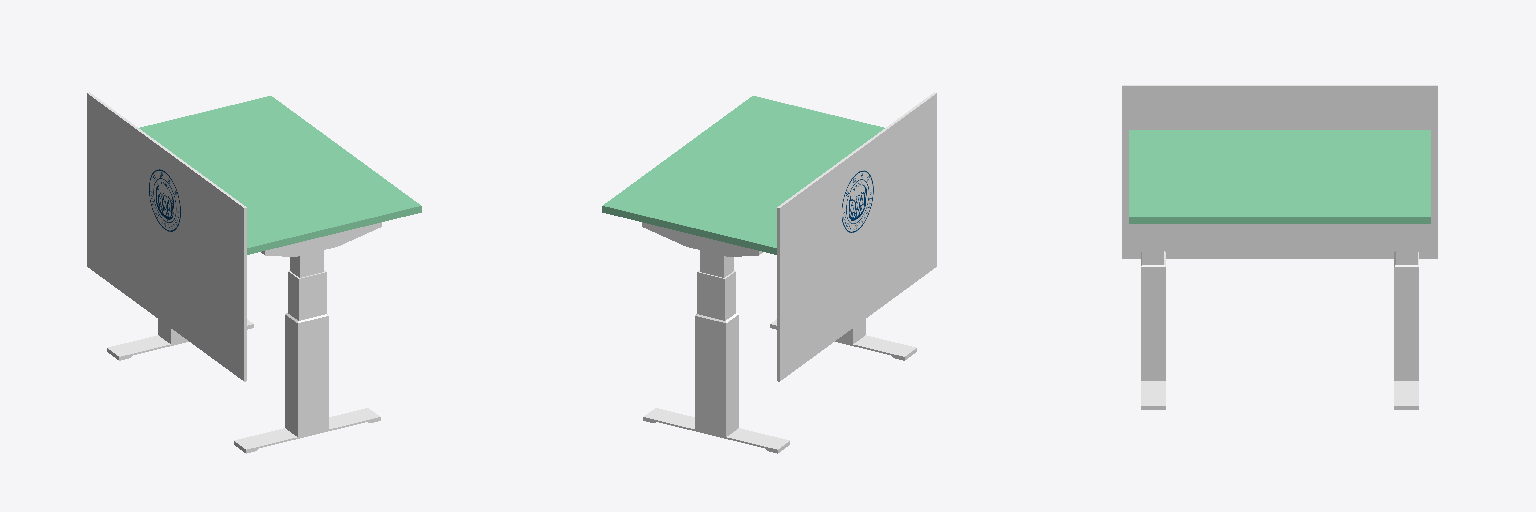
3 views of the same model, side by side, from view 1: azimuth 30°, elevation 25°; view 2: azimuth 150°, elevation 25°; view 3: azimuth 270°, elevation 25° (orthographic).
Parts seen in each view (by area): view 1: Plane002, ǰ̨����, Box005, ͬ��, Box007, Box010; view 2: Plane002, ǰ̨����, Box010, ͬ��, Box009, Box005; view 3: Plane002, ǰ̨����, Box005, Box010.
Part boxes in pixels (x1,y1,x2,y2): Plane002: (139,96,421,254); ǰ̨����: (87,92,246,381); Box005: (234,250,380,453); ͬ��: (144,135,186,338); Box007: (261,222,381,256); Box010: (107,319,253,360); Plane002: (602,96,884,254); ǰ̨����: (777,92,936,381); Box010: (643,250,789,453); ͬ��: (837,135,879,338); Box009: (642,222,762,256); Box005: (770,319,916,360); Plane002: (1129,130,1430,223); ǰ̨����: (1122,85,1437,258); Box005: (1141,224,1165,409); Box010: (1394,224,1418,409).
Bounding box in the file's own units: 75.56 × 102 × 114.
3 materials, 1 textured.